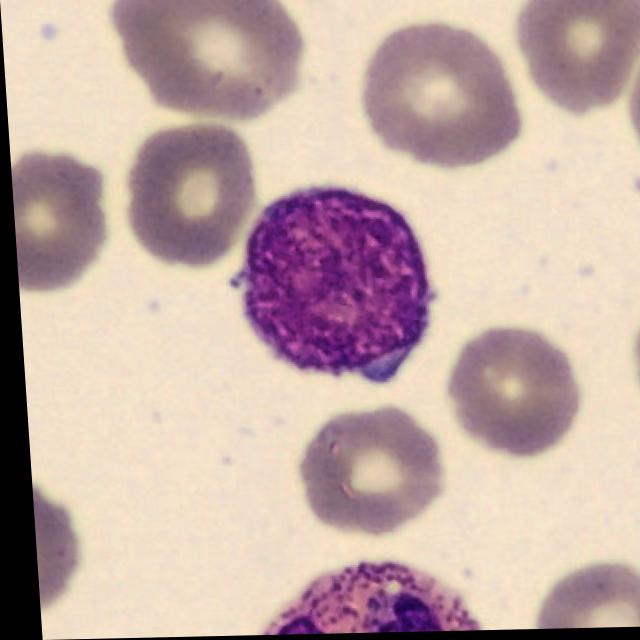Linfocito: (227, 186, 427, 382)
